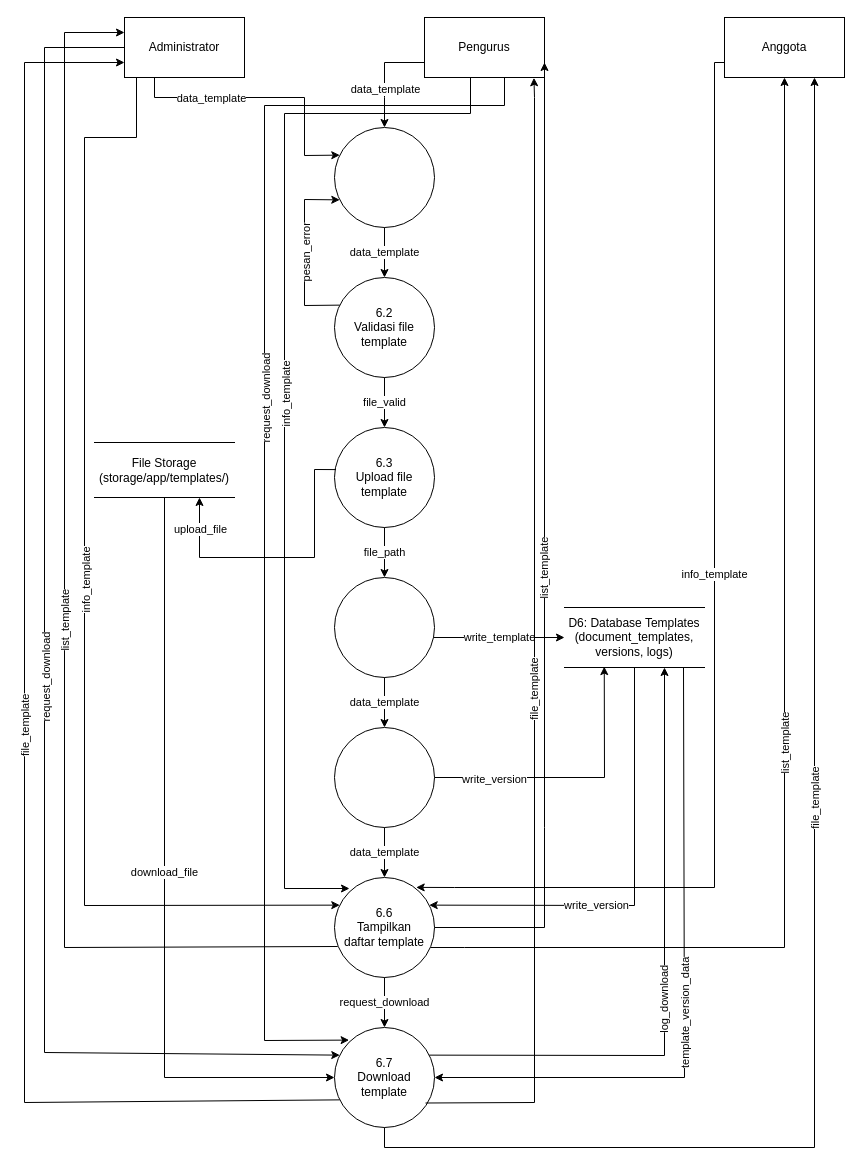
This 862x1173 diagram has some shape labels left out. Each missing label, with the centre of its shape:
"6.1 Input data template" belongs at point 384,177.
"6.4 Simpan data template" belongs at point 384,627.
"6.5 Buat versi template" belongs at point 384,777.
